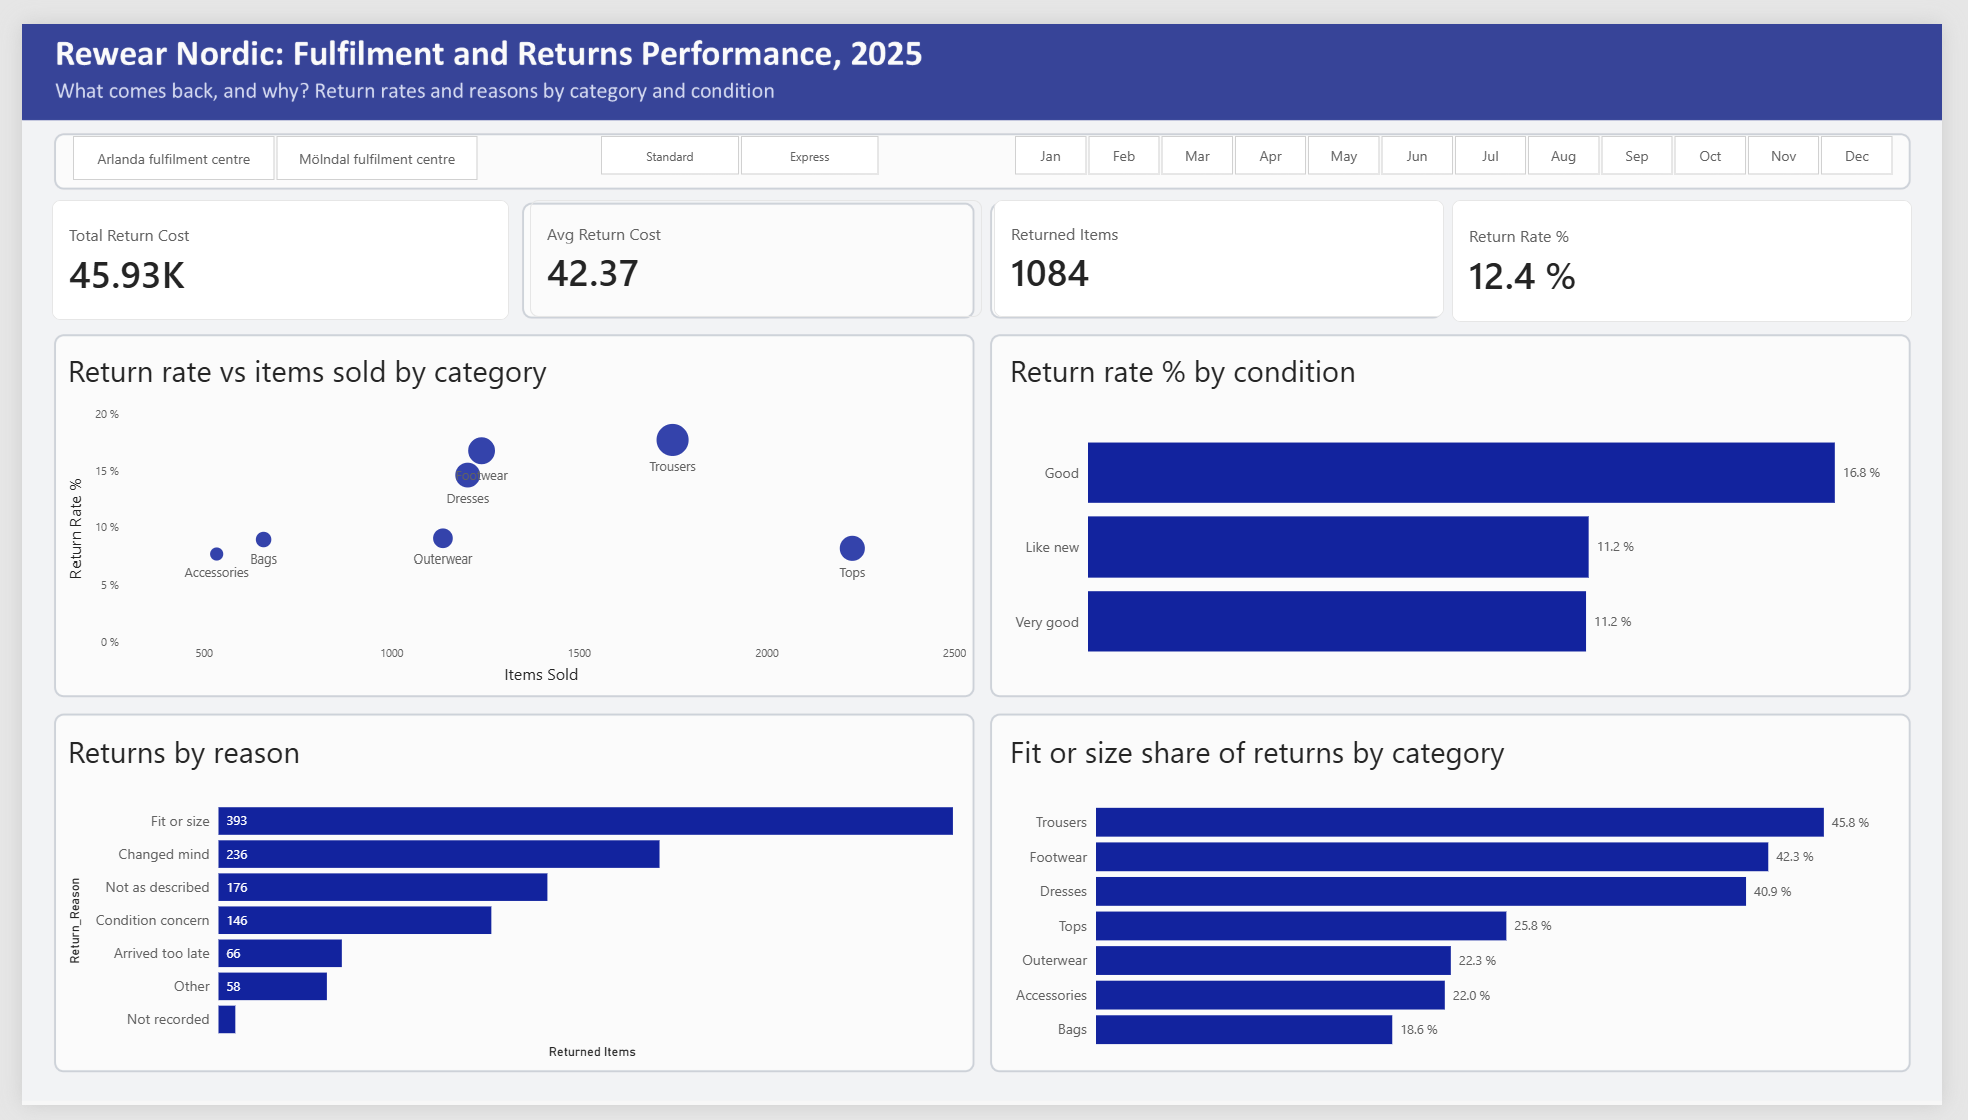

Layout of this report page (visuals, bound fields, positions):
{"tool":"powerbi","page":{"name":"Returns","canvas":[1920,1080],"ordinal":2},"visuals":[{"type":"cardVisual","fields":{"Data":["Measures (2).Total Return Cost"]},"box":[30,175,457.5,120],"z":0},{"type":"cardVisual","fields":{"Data":["Measures (2).Returned Items"]},"box":[972.5,175,450,117.5],"z":1000},{"type":"cardVisual","fields":{"Data":["Measures (2).Return Rate %"]},"box":[1430,175,460,122.5],"z":2000},{"type":"cardVisual","fields":{"Data":["Measures (2).Avg Return Cost"]},"box":[507.5,175,452.5,117.5],"z":3000},{"type":"clusteredBarChart","title":"Fit or size share of returns by category","fields":{"Category":["T_Products.Category"],"Y":["Measures (2).Fit or Size %"]},"box":[972.5,692.5,912.5,357.5],"z":4000},{"type":"barChart","title":"Return rate % by condition","fields":{"Category":["T_Products.Condition"],"Y":["Measures (2).Return Rate %"]},"box":[972.5,312.5,912.5,362.5],"z":5000},{"type":"clusteredBarChart","title":" Returns by reason","fields":{"Category":["T_Returns.Return_Reason"],"Y":["Measures (2).Returned Items"]},"box":[30,692.5,930,357.5],"z":6000},{"type":"scatterChart","title":"Return rate vs items sold by category","fields":{"Category":["T_Products.Category"],"Size":["Measures (2).Total Return Cost"],"X":["Measures (2).Items Sold"],"Y":["Measures (2).Return Rate %"]},"box":[30,312.5,930,362.5],"z":7000},{"type":"slicer","fields":{"Values":["T_Warehouses.Warehouse_Name"]},"box":[29.6,109.3,444.6,48.2],"z":8000},{"type":"slicer","fields":{"Values":["T_Orders.Delivery_Service"]},"box":[557.5,110,317.5,42.5],"z":9000},{"type":"slicer","fields":{"Values":["Dim_Date.Month"]},"box":[972.5,110,917.5,42.5],"z":10000}]}

Visuals, with their boxes in screenshot pixels (x1, y1, x2, y2), scaled from the page's 1920x1080 canvas onto the 1968x1120 screenshot:
cardVisual - Measures (2).Total Return Cost: 31,181,500,306
cardVisual - Measures (2).Returned Items: 997,181,1458,303
cardVisual - Measures (2).Return Rate %: 1466,181,1937,309
cardVisual - Measures (2).Avg Return Cost: 520,181,984,303
"Fit or size share of returns by category" clusteredBarChart: 997,718,1932,1089
"Return rate % by condition" barChart: 997,324,1932,700
" Returns by reason" clusteredBarChart: 31,718,984,1089
"Return rate vs items sold by category" scatterChart: 31,324,984,700
slicer - T_Warehouses.Warehouse_Name: 30,113,486,163
slicer - T_Orders.Delivery_Service: 571,114,897,158
slicer - Dim_Date.Month: 997,114,1937,158
